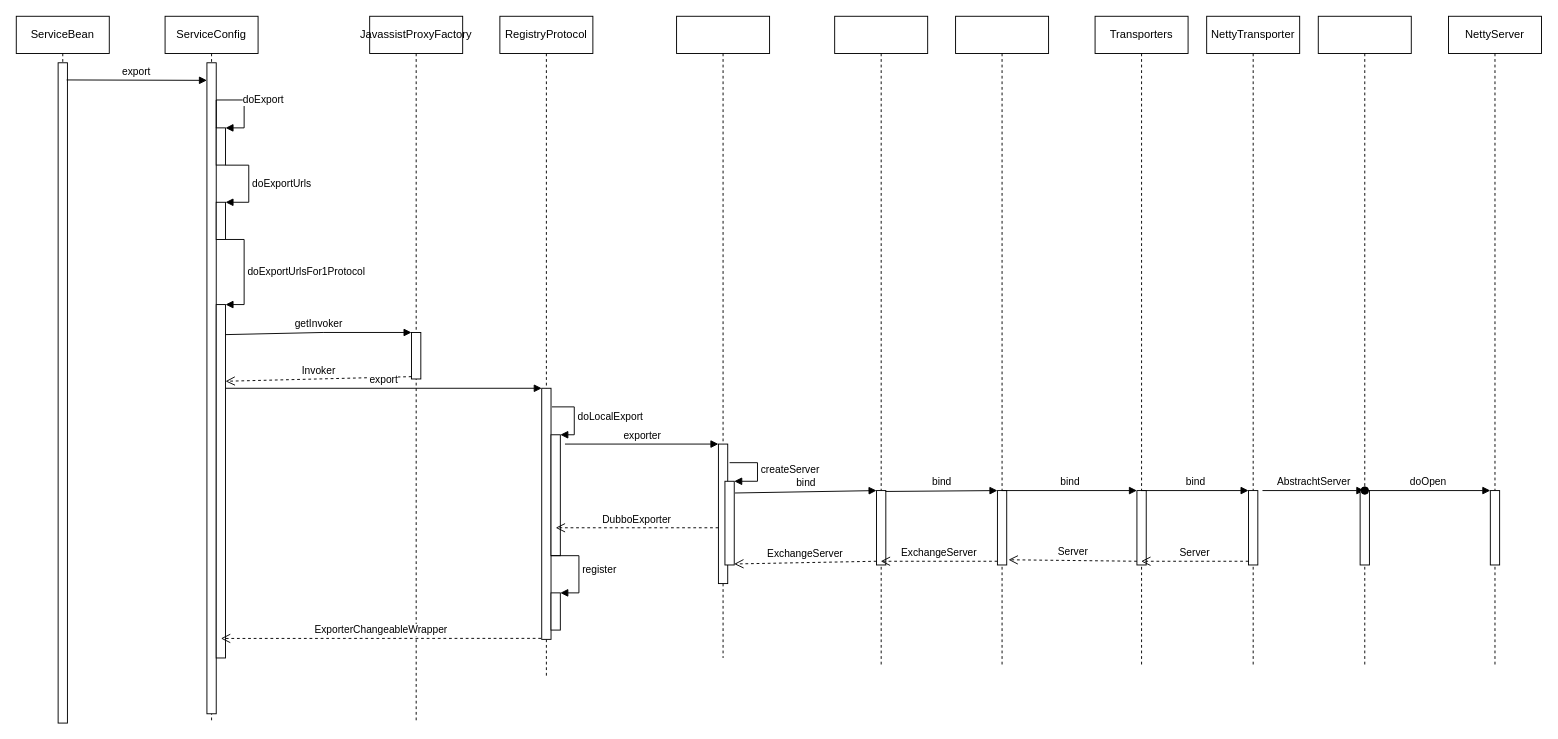
Image size: 1558x739. Some labels were removed from this diagram. Each missing label, with the box of its shape:
AbstractServer: (1317, 15, 1411, 667)
DubboProtocol: (676, 15, 770, 658)
Exchangers: (834, 15, 928, 667)
HearderExchangeServer: (955, 15, 1049, 667)
